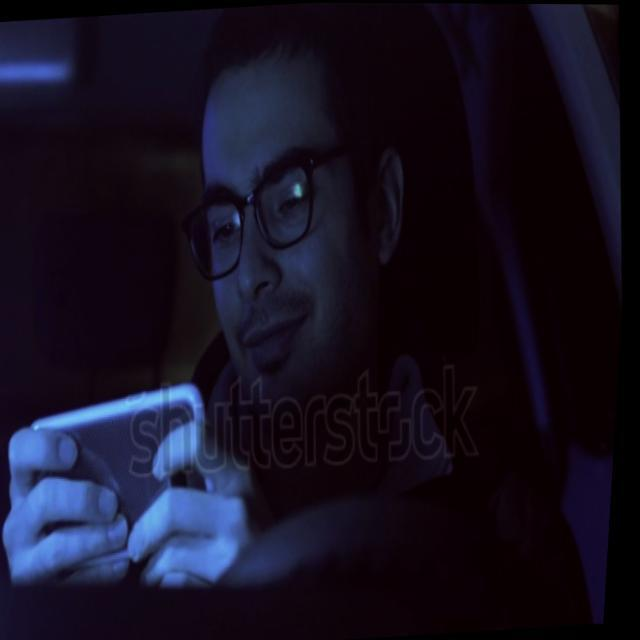PhoneCall: (26, 377, 223, 576)
